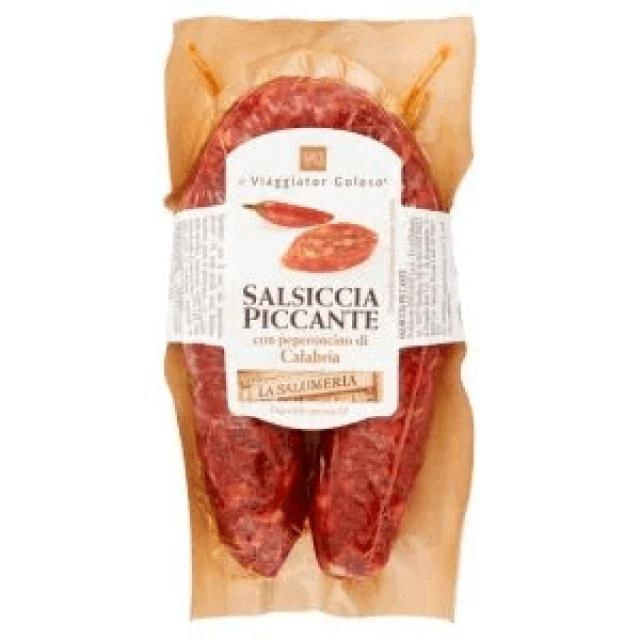Ham: (162, 15, 476, 623)
